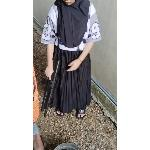Senapan: (38, 54, 62, 118)
